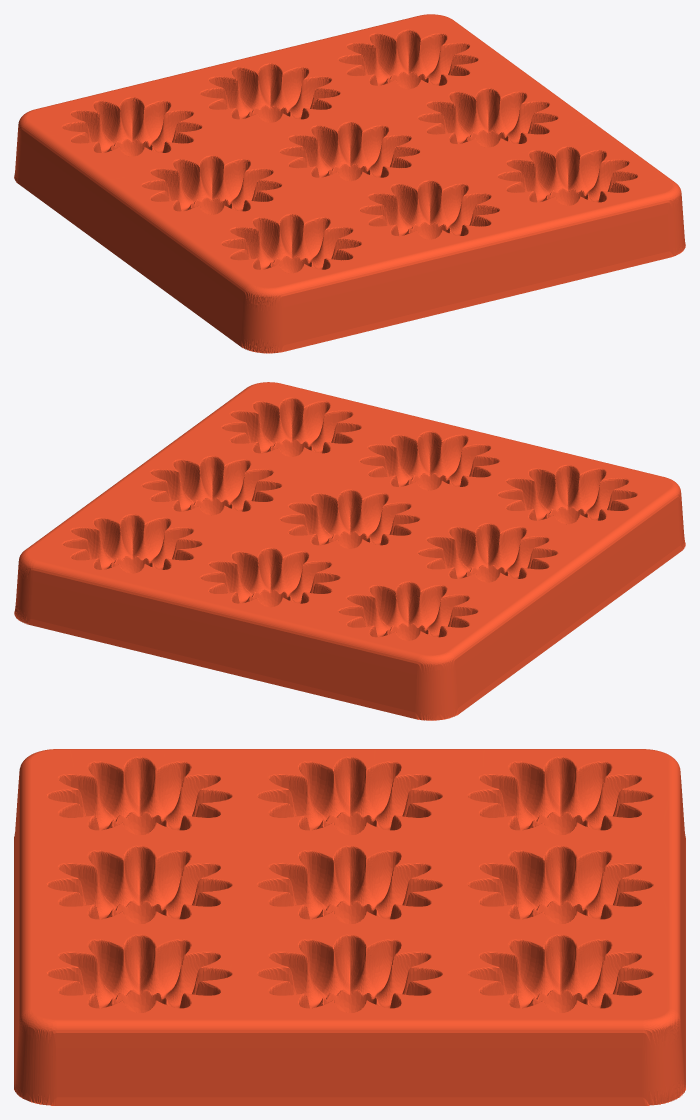
The model's file is mold.glb.
The picture shows the model from 3 angles, top to bottom: view 1: azimuth 30°, elevation 25°; view 2: azimuth 150°, elevation 25°; view 3: azimuth 270°, elevation 25°; orthographic projection. The views are drawn at different scales.
Parts seen in each view (by area): view 1: geometry_0; view 2: geometry_0; view 3: geometry_0.
Boxes of the visible parts, x1,y1,x2,y2 form: geometry_0: (14,14,685,353); geometry_0: (14,382,685,720); geometry_0: (14,749,685,1105).
Size of the model in its own units: 0.1402 by 0.0182 by 0.1402.
